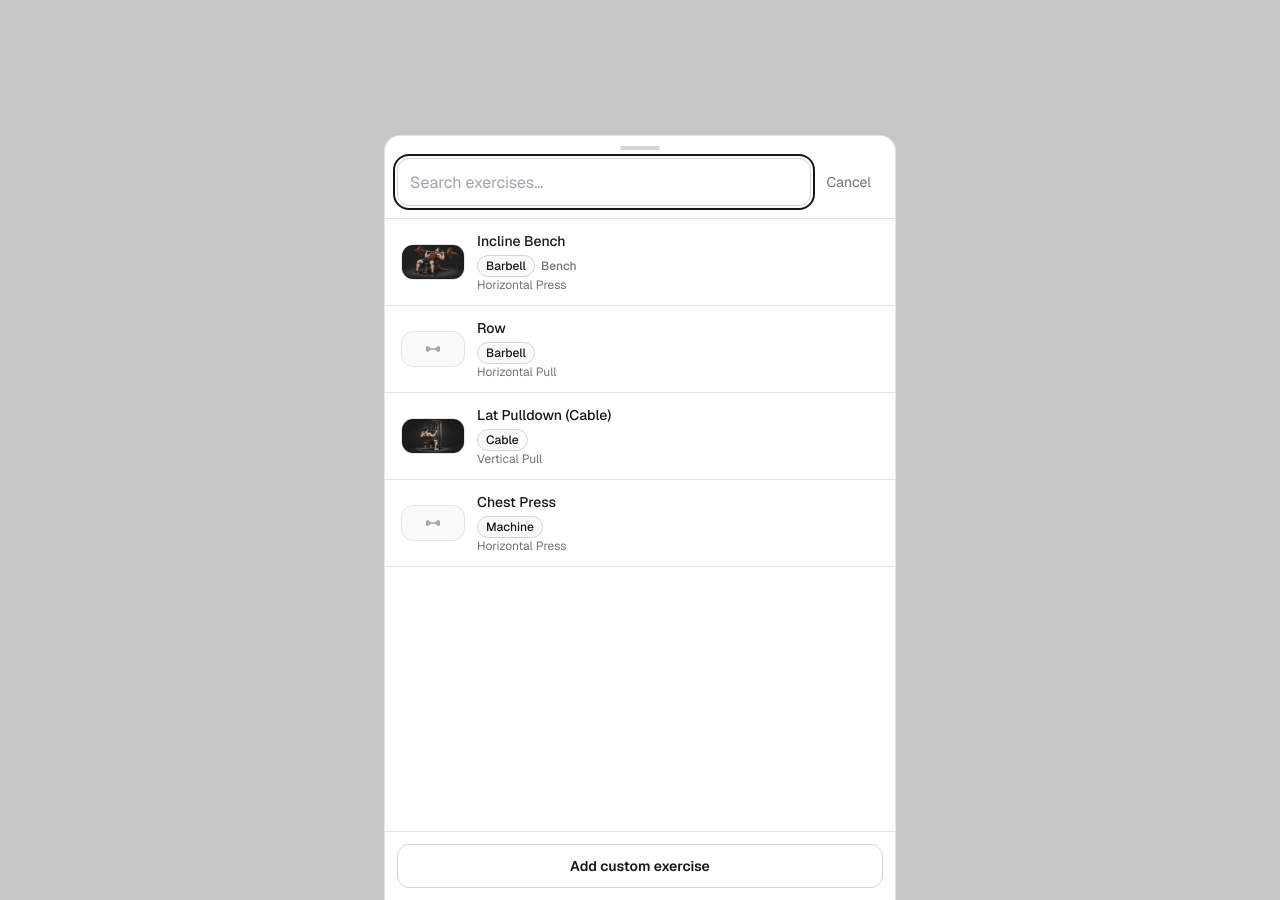
Test: ExercisePicker station forms › validates required brands in the station picker before submitting
Click the button "Lat Pulldown (Cable) Cable vertical pull": click(433, 436) x1=385 y1=393 x2=895 y2=480
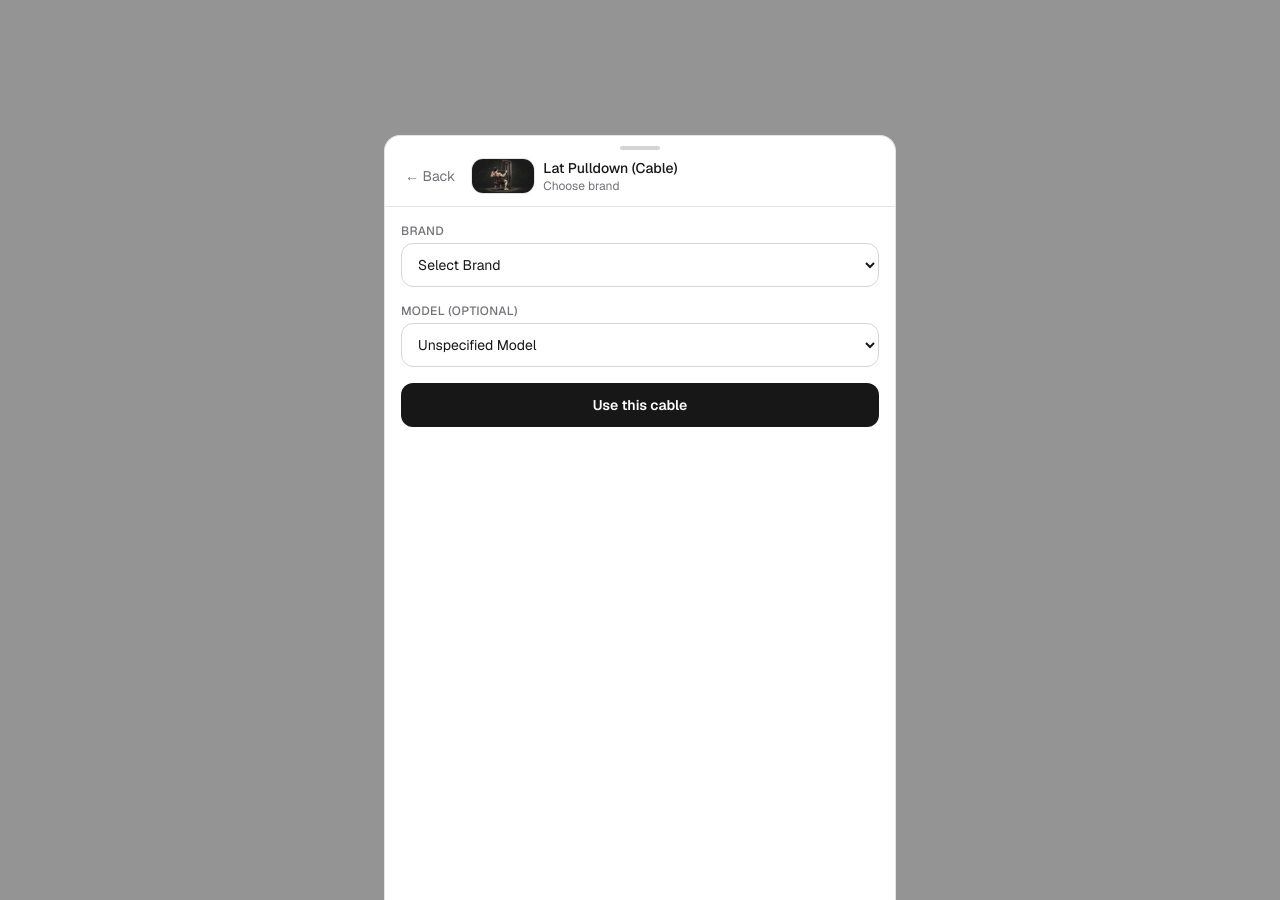
Click the button "Use this cable": click(640, 405) x1=401 y1=383 x2=879 y2=427
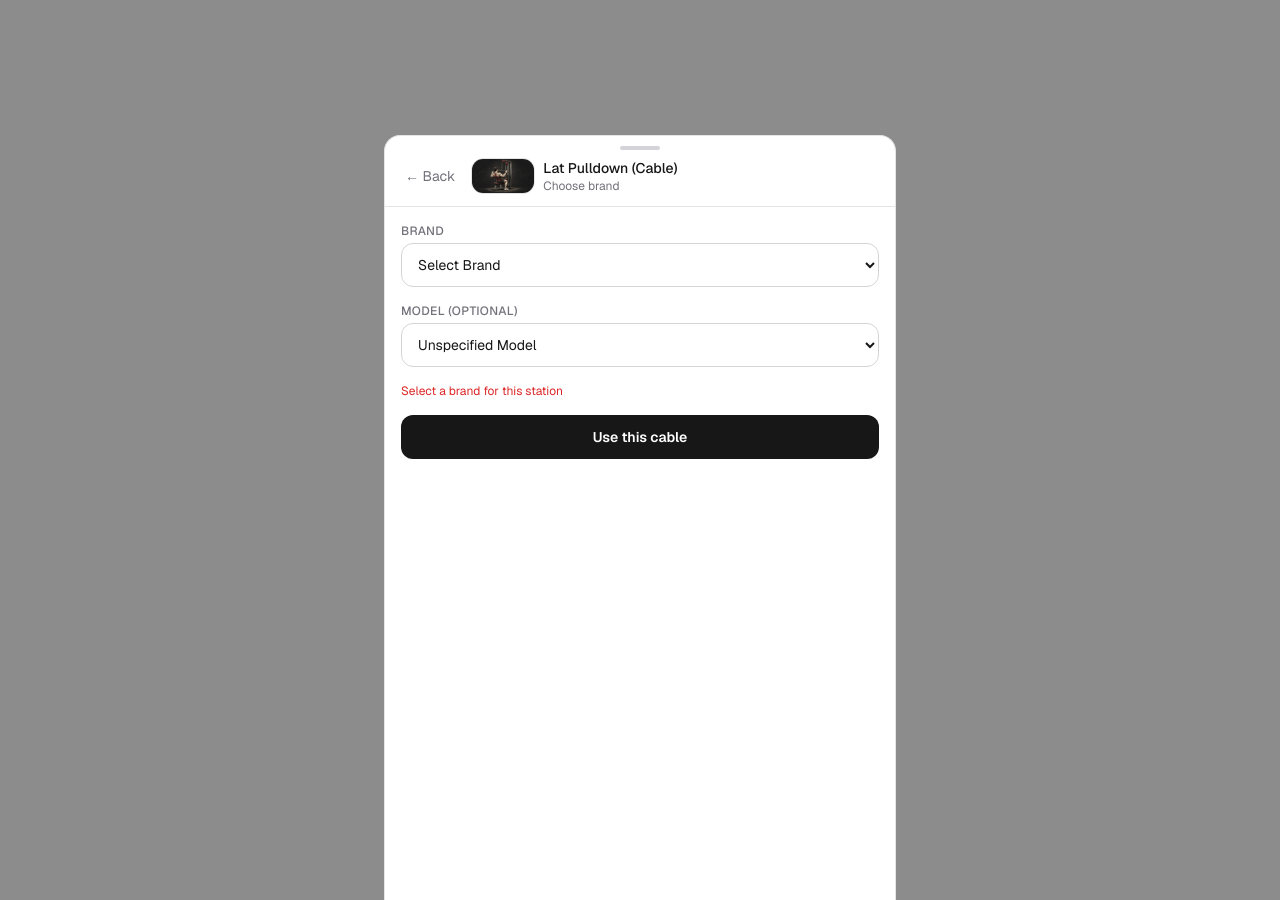
Expected: the text "Select a brand for this station" is shown, x1=401 y1=383 x2=563 y2=399
